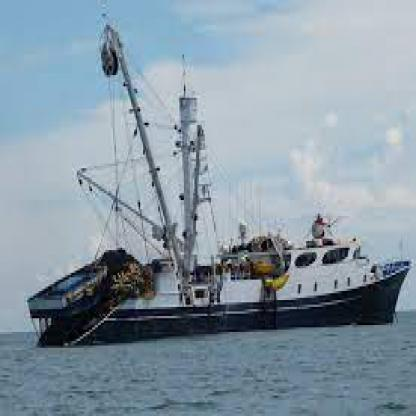fish-b: (69, 2, 413, 339)
